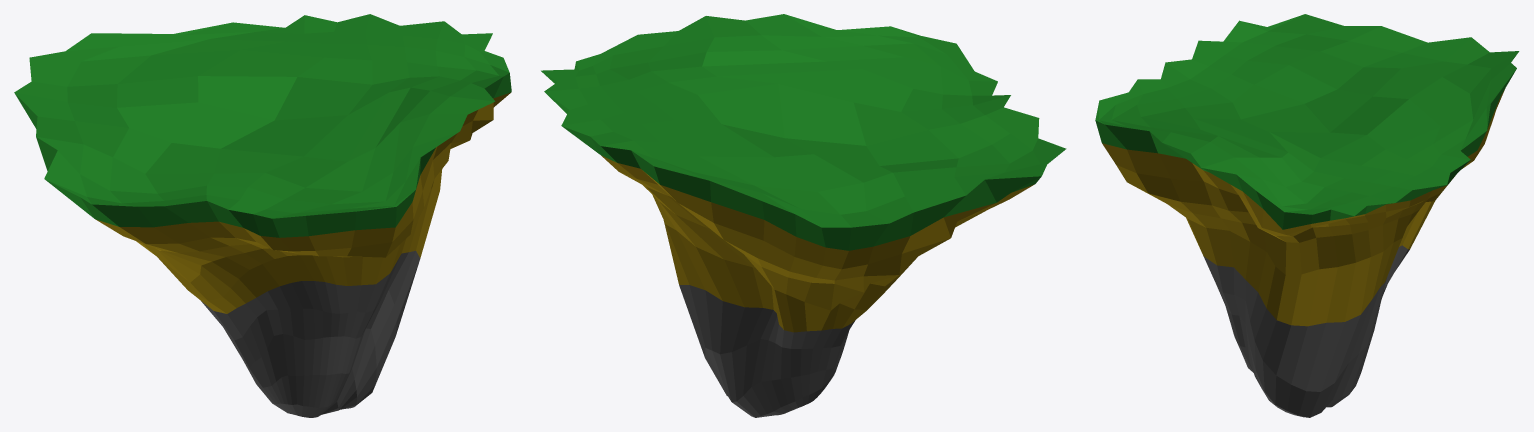
File: Platform_ground_2.fbx
3 views of the same model, side by side, from view 1: azimuth 30°, elevation 25°; view 2: azimuth 150°, elevation 25°; view 3: azimuth 270°, elevation 25° (orthographic). The views are drawn at different scales.
Visible parts, largest first — view 1: Sphere; view 2: Sphere; view 3: Sphere.
Boxes of the visible parts, x1,y1,x2,y2 form: Sphere: (14,14,511,417); Sphere: (541,14,1066,417); Sphere: (1095,14,1519,417).
Size of the model in its own units: 335 by 217 by 284.
